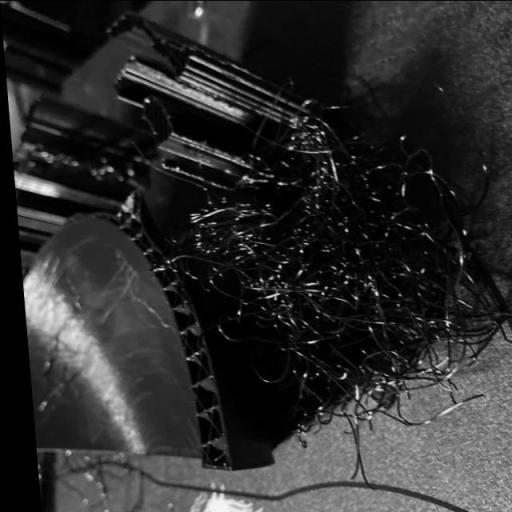spaghetti_and_stringing: (190, 184, 328, 308), (362, 168, 457, 326), (272, 330, 406, 420), (276, 112, 370, 197)
